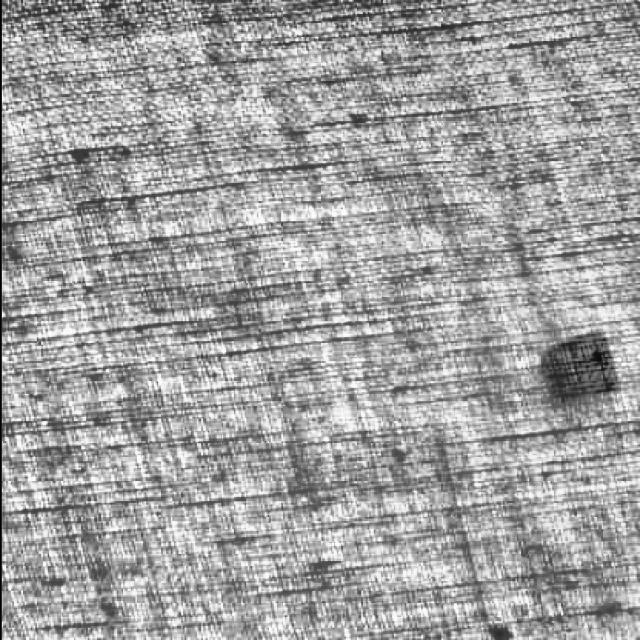oil_spot: (526, 314, 635, 414)
